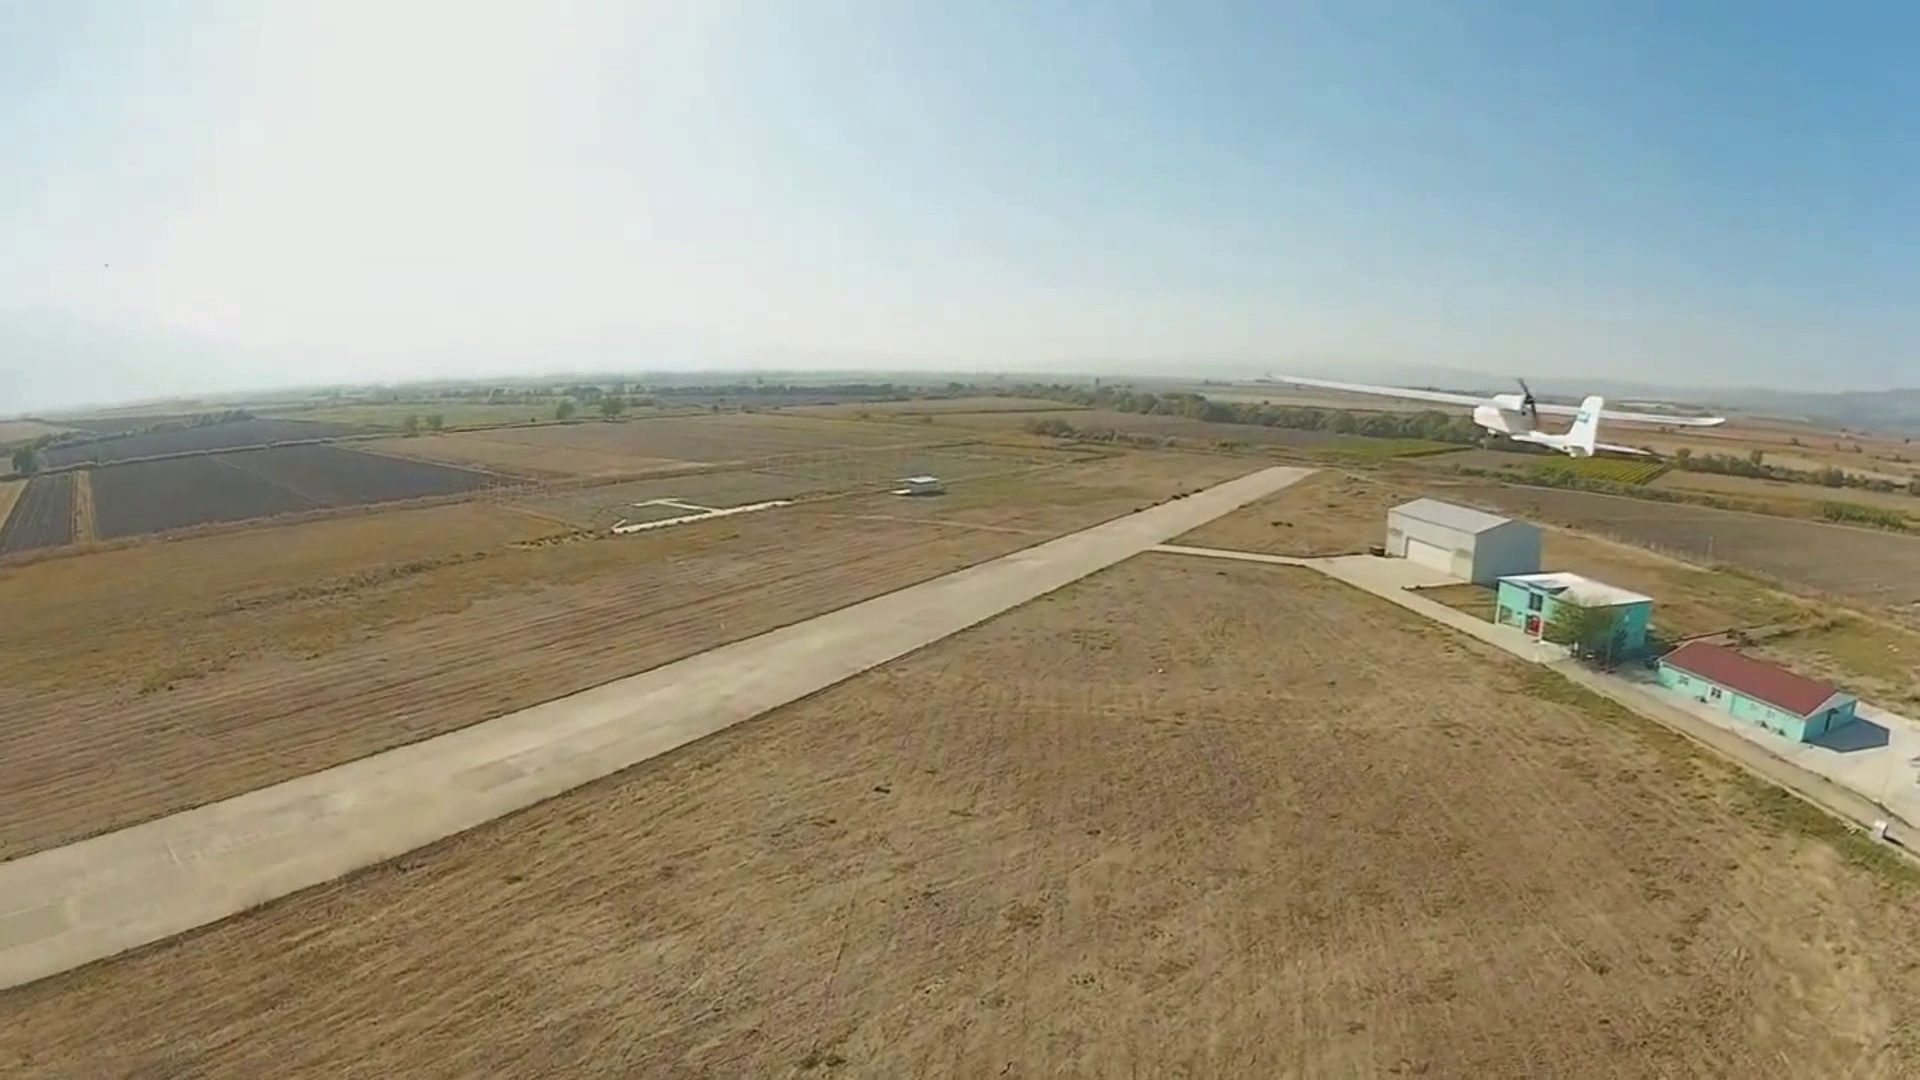airplane: (1213, 375, 1727, 462)
